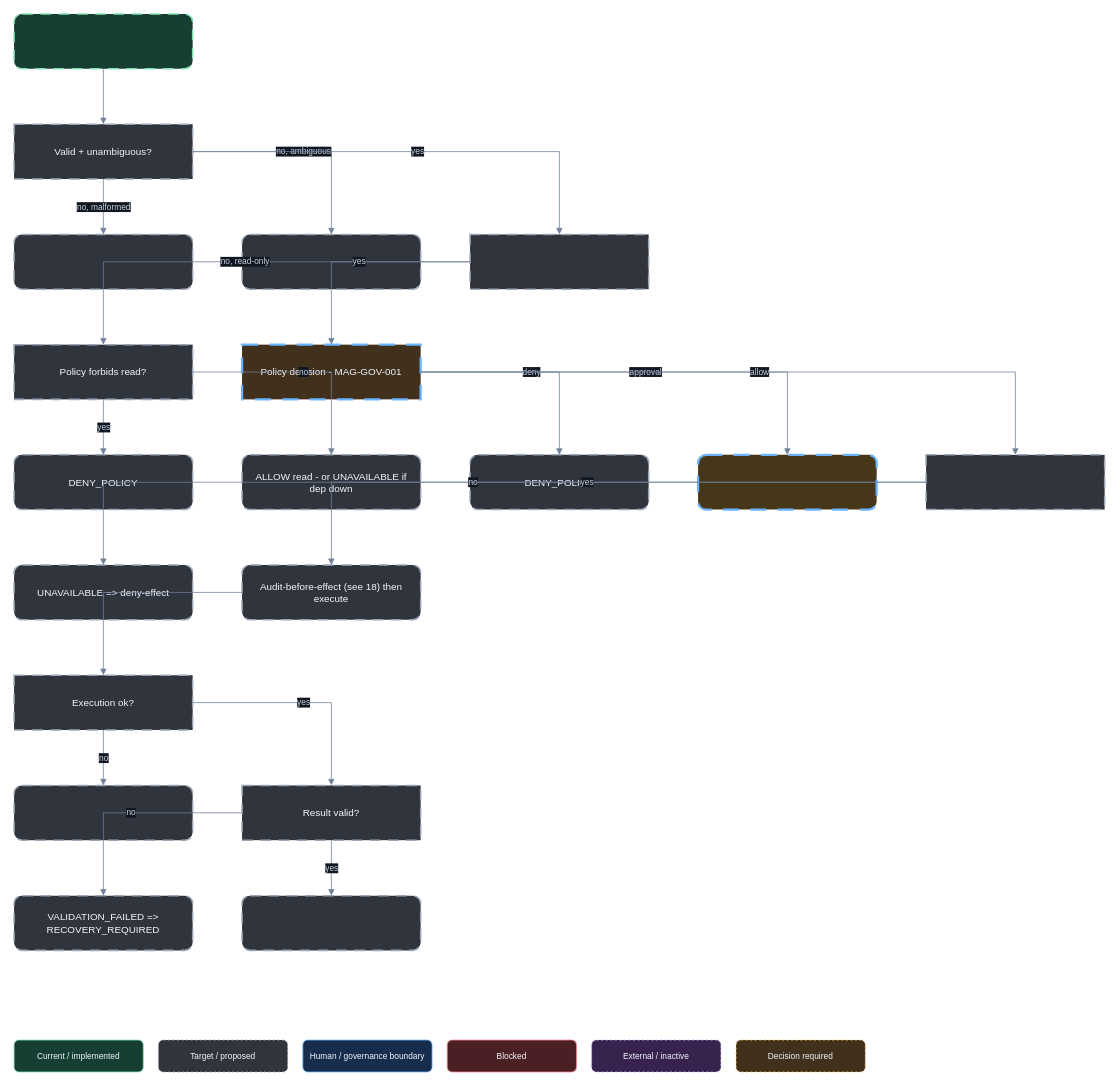
Some shapes in this 1118 by 1085 pixel diagram are drawn without their labels. Each missing label, with the centre of its shape:
ALLOW - completed + evidence: (x=331, y=923)
Consequential?: (x=559, y=261)
Deps available?: (x=1015, y=482)
EXECUTION_ERROR => RECOVERY_REQUIRED: (x=103, y=812)
HOLD_FOR_APPROVAL - MAG-GOV-003: (x=787, y=481)
INVALID_REQUEST: (x=103, y=261)
NEEDS_CLARIFICATION: (x=331, y=261)
Request - MAG-INT-001: (x=103, y=41)
